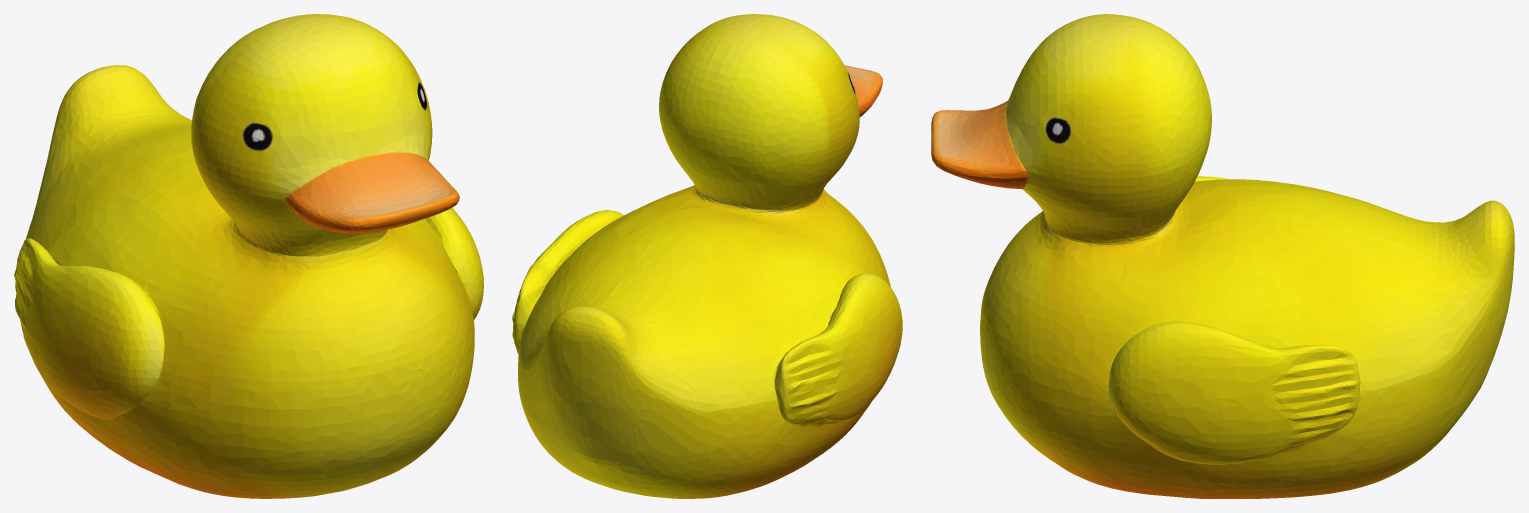
Rendered from duck.glb.
3 renders of one model, left to right at view 1: azimuth 30°, elevation 25°; view 2: azimuth 150°, elevation 25°; view 3: azimuth 270°, elevation 25°, orthographic. The views are drawn at different scales.
Parts seen in each view (by area): view 1: geometry_0; view 2: geometry_0; view 3: geometry_0.
Part boxes in pixels (x1,y1,x2,y2): geometry_0: [14, 14, 483, 498]; geometry_0: [512, 14, 902, 498]; geometry_0: [931, 14, 1514, 498].
Size of the model in its own units: 0.7351 by 0.8046 by 0.9991.
Materials: 1 (1 with a texture image).
